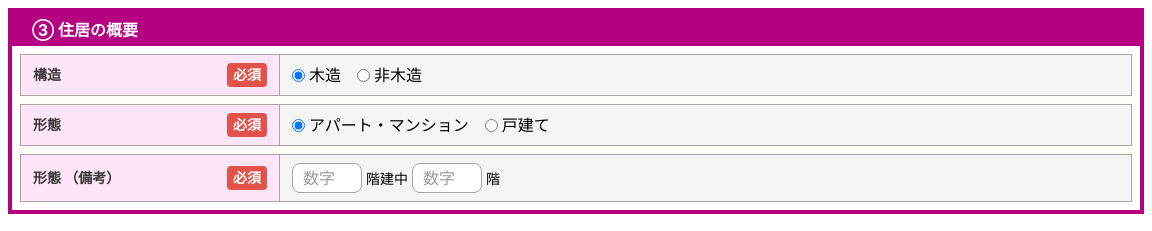
Scenario: HousingOverviewSection コンポーネント › 戸建て選択時に階建のみが表示されること
This screenshot has width=1152, height=231.
Step 1. Click the radio button labelled "戸建て" → (491, 125), box [485,118,498,132]
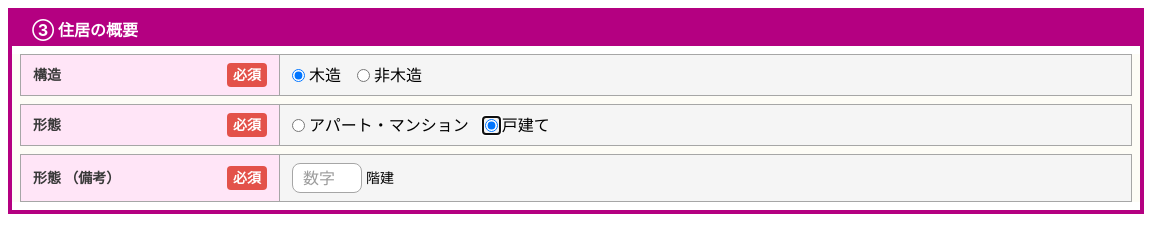
Expected: the text "階建中" is gone
Expected: the text "階建" is shown, [366,168,394,188]
